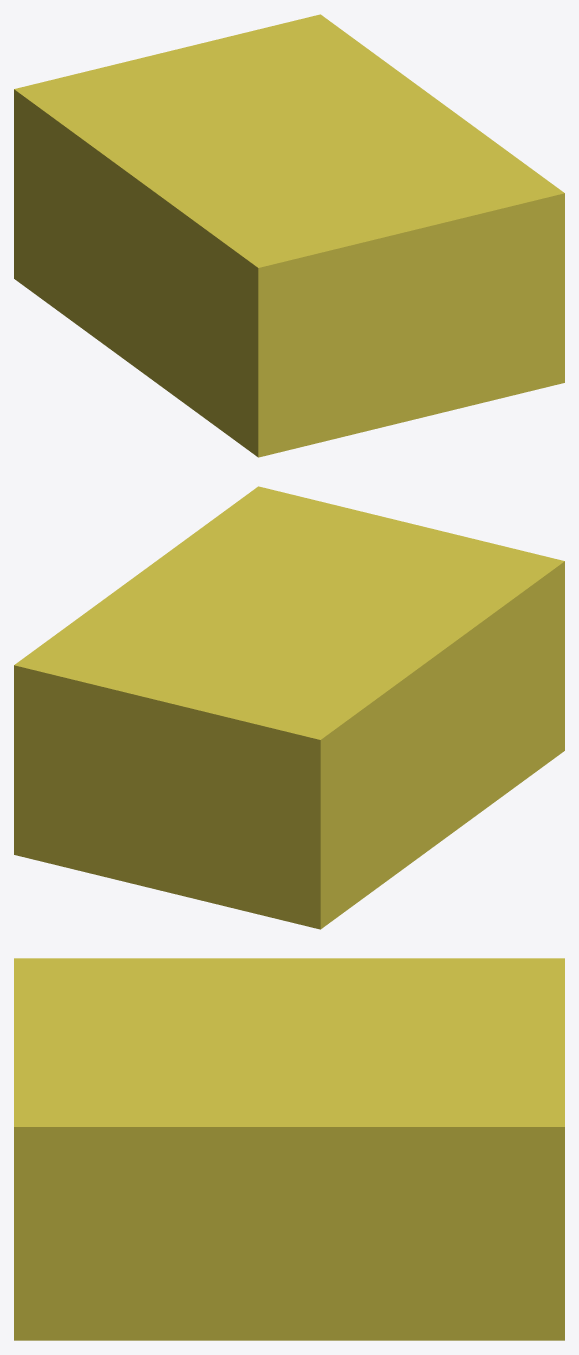
File: Generic 6RU Device - Planned.glb
3 renders of one model, top to bottom at view 1: azimuth 30°, elevation 25°; view 2: azimuth 150°, elevation 25°; view 3: azimuth 270°, elevation 25°, orthographic. The views are drawn at different scales.
Visible parts, largest first — view 1: Mesh_Mesh_head_geo.001_lambert2SG.001; view 2: Mesh_Mesh_head_geo.001_lambert2SG.001; view 3: Mesh_Mesh_head_geo.001_lambert2SG.001.
Boxes of the visible parts, x1,y1,x2,y2 form: Mesh_Mesh_head_geo.001_lambert2SG.001: (14, 14, 564, 457); Mesh_Mesh_head_geo.001_lambert2SG.001: (14, 486, 564, 929); Mesh_Mesh_head_geo.001_lambert2SG.001: (14, 958, 564, 1340).
Size of the model in its own units: 447 by 264 by 617.
